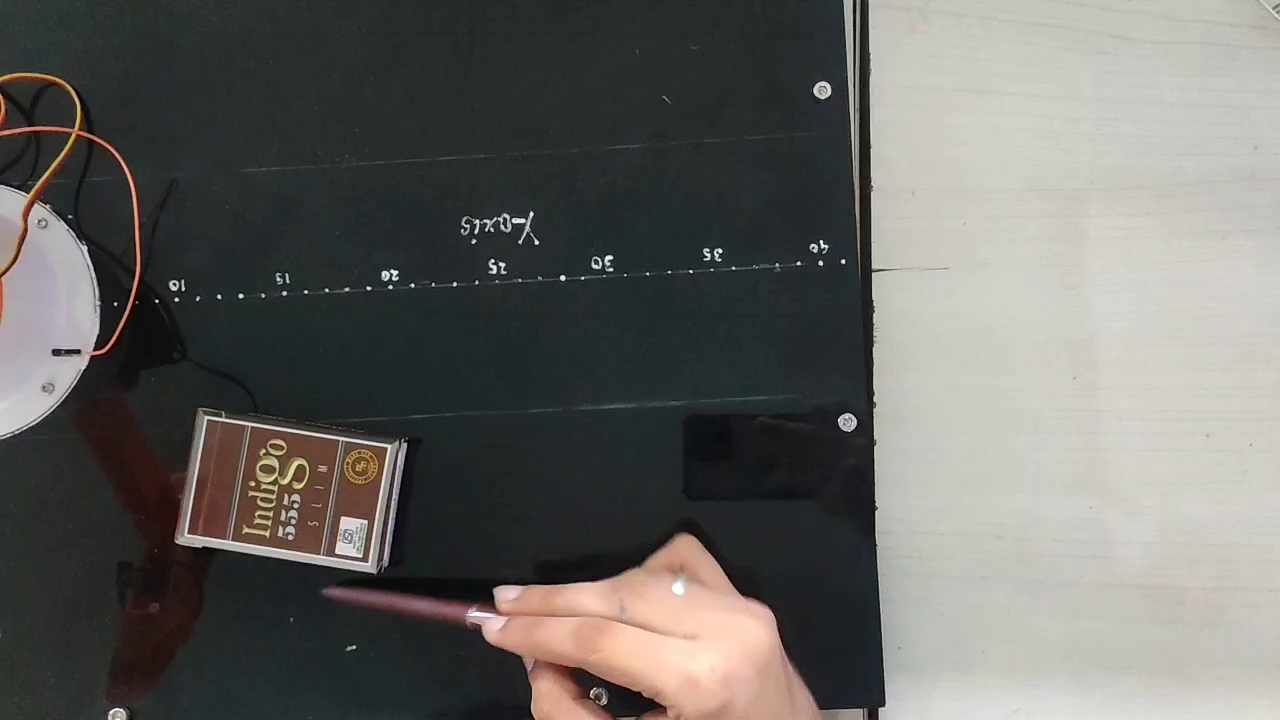BEX: (186, 418, 388, 563)
